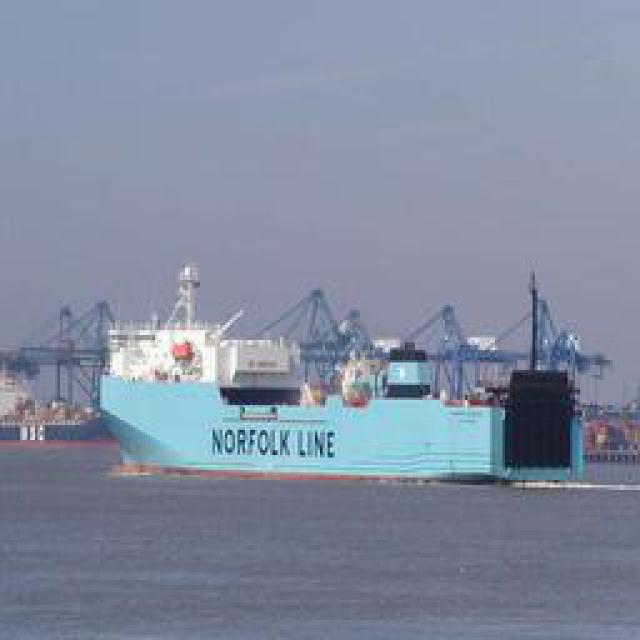Ship: (87, 279, 517, 479)
